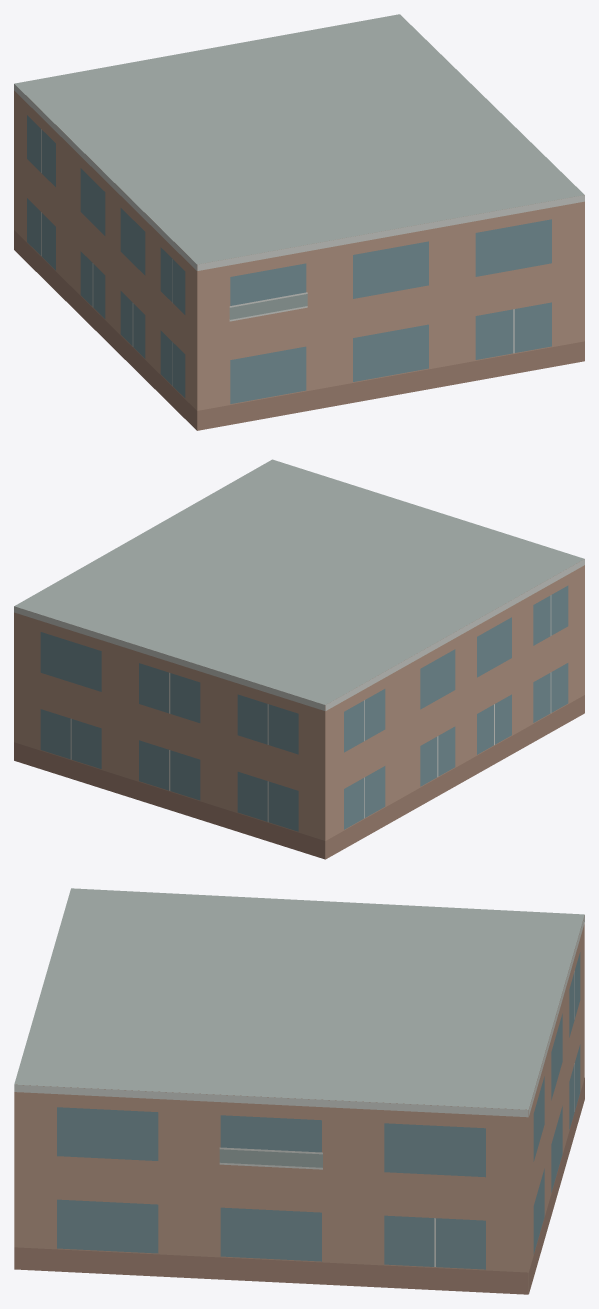
File: survey-upis-32870432.glb
The picture shows the model from 3 angles, top to bottom: view 1: azimuth 30°, elevation 25°; view 2: azimuth 150°, elevation 25°; view 3: azimuth 270°, elevation 25°; orthographic projection. The views are drawn at different scales.
Parts seen in each view (by area): view 1: survey-upis-32870432.tmp; view 2: survey-upis-32870432.tmp; view 3: survey-upis-32870432.tmp.
Part boxes in pixels (bbox=[...]): survey-upis-32870432.tmp: bbox=[14, 14, 584, 430]; survey-upis-32870432.tmp: bbox=[14, 459, 584, 859]; survey-upis-32870432.tmp: bbox=[14, 888, 584, 1294].
Size of the model in its own units: 15.7 by 6.1 by 17.09.
